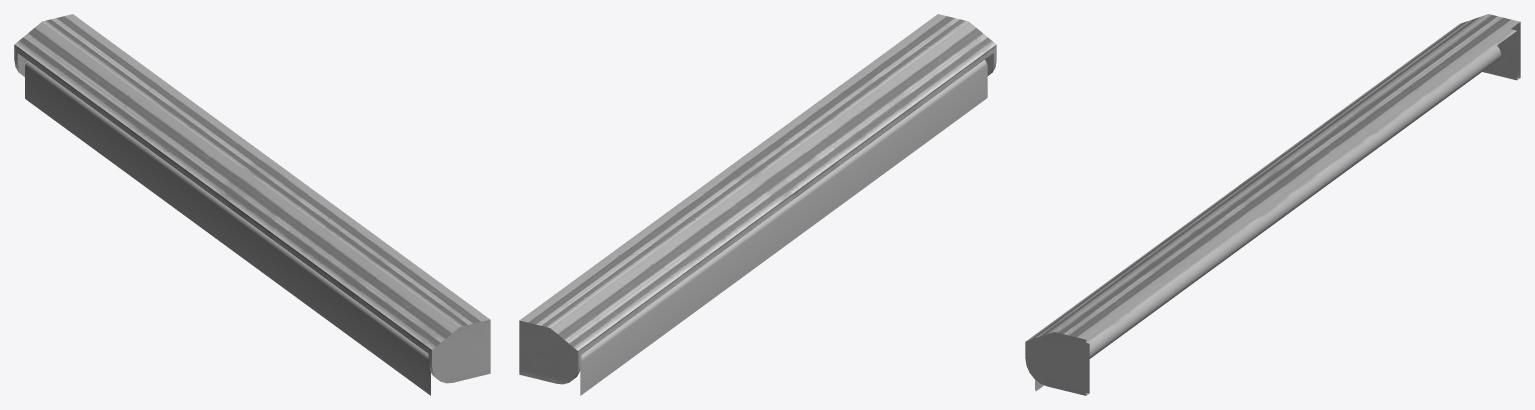
File: MB_Canopy_03.fbx
3 views of the same model, side by side, from view 1: azimuth 30°, elevation 25°; view 2: azimuth 150°, elevation 25°; view 3: azimuth 330°, elevation 25° (orthographic). The views are drawn at different scales.
Parts seen in each view (by area): view 1: MB_Canopy_03; view 2: MB_Canopy_03; view 3: MB_Canopy_03.
Part boxes in pixels (bbox=[...]): MB_Canopy_03: bbox=[14, 14, 490, 395]; MB_Canopy_03: bbox=[519, 14, 996, 395]; MB_Canopy_03: bbox=[1025, 14, 1520, 395].
Bounding box in the file's own units: 25.97 × 28.49 × 321.
